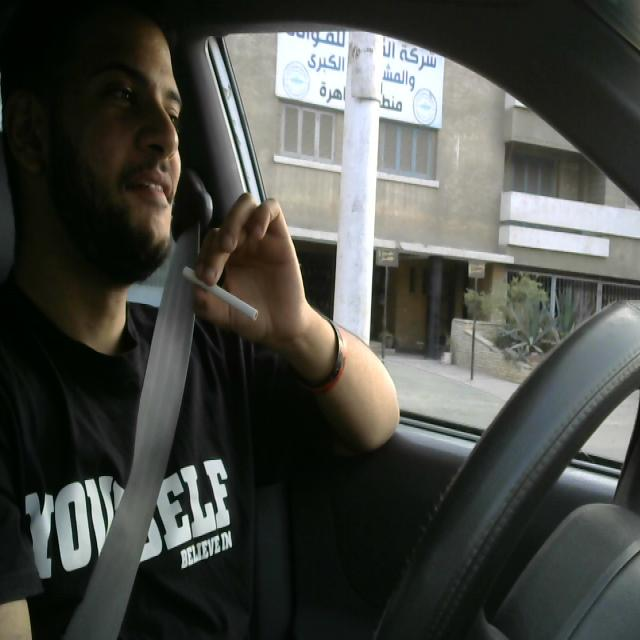smoking: (174, 264, 258, 331)
